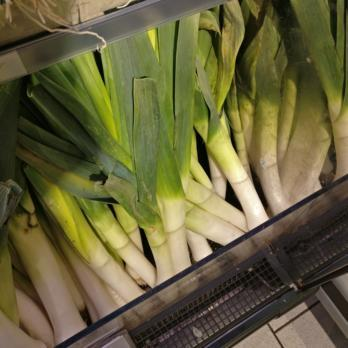Leek Leaves: (102, 41, 331, 201), (2, 81, 143, 291)
